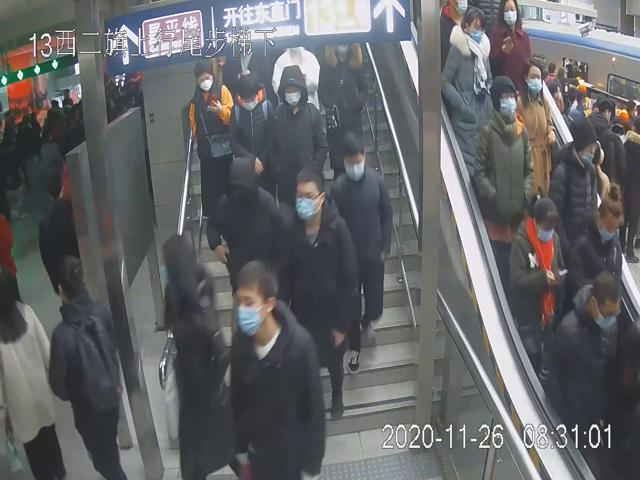person: (230, 259, 327, 480), (282, 164, 361, 422), (160, 230, 239, 478), (327, 130, 392, 348), (472, 74, 535, 281), (508, 195, 568, 370), (441, 4, 495, 191), (205, 153, 279, 288), (187, 52, 233, 221), (269, 64, 327, 184), (227, 70, 272, 164)
